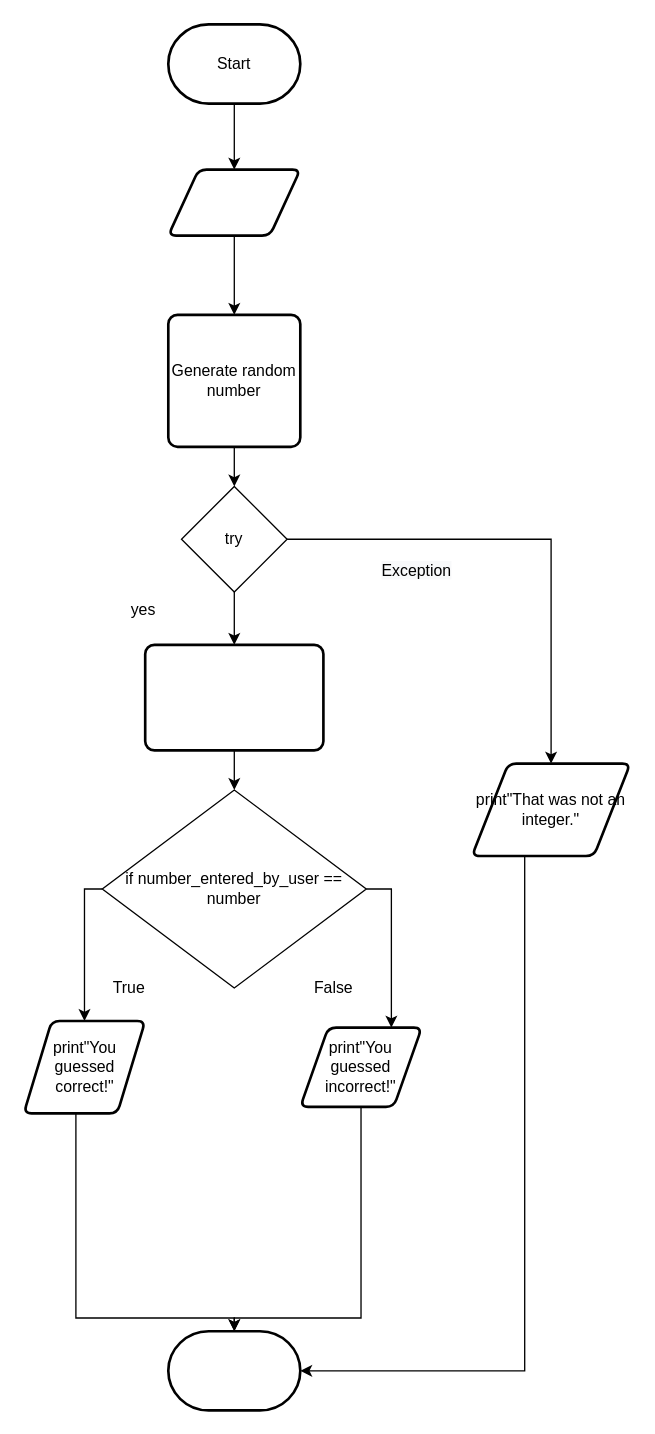
Image size: 655x1434. Some labels were removed from this diagram. The shapes that lost their labels are listed below. From the top down, each one's centre as x and y in pixels, then its label:
pixel 233 202: Get number
pixel 233 697: convert string to int
pixel 233 1370: Stop
